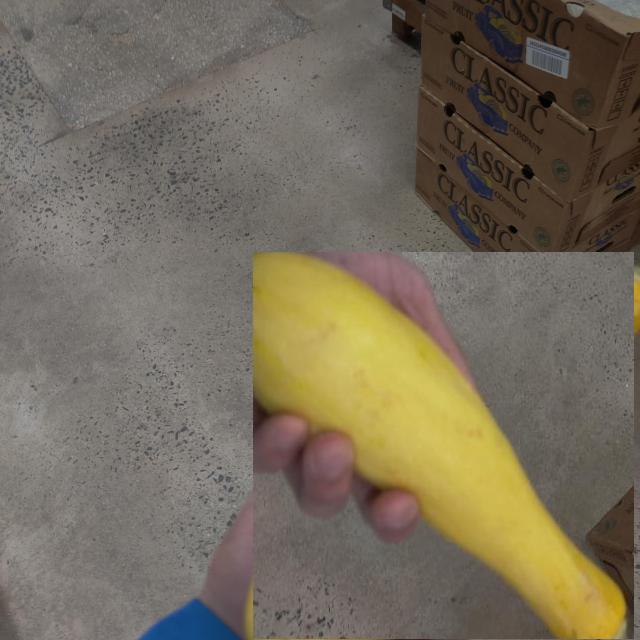Squash: (253, 253, 634, 640)
